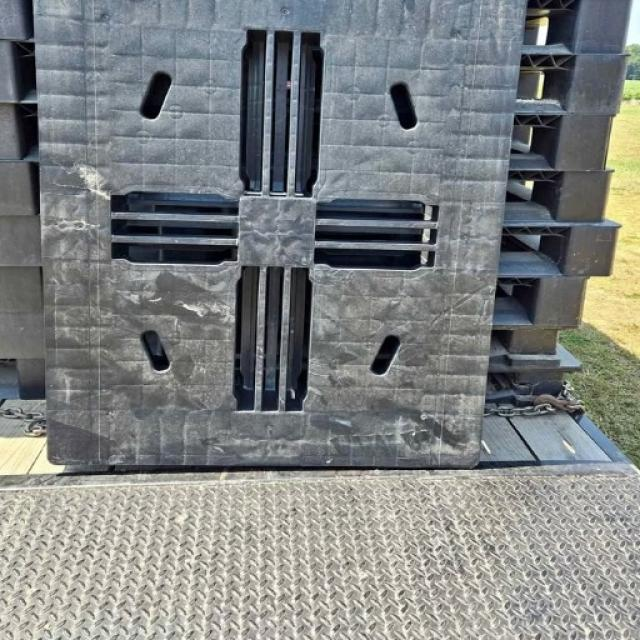non-igps: (29, 0, 531, 476), (468, 0, 640, 412), (0, 0, 50, 402)
